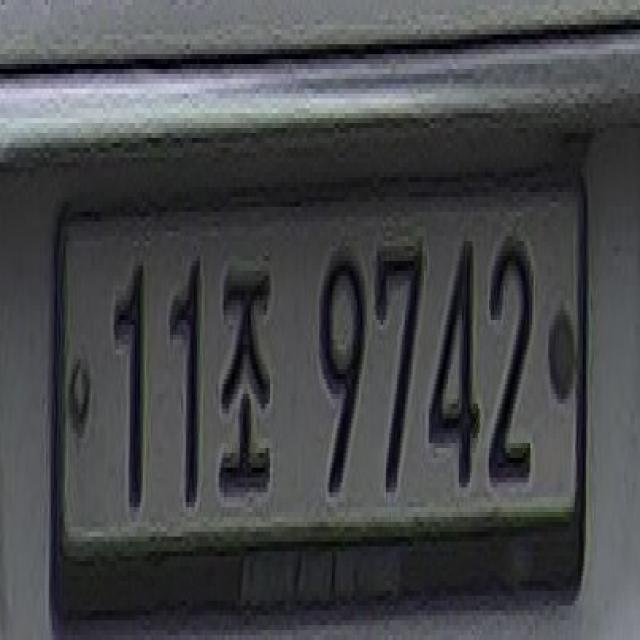1: (156, 241, 212, 527), (110, 251, 156, 522)
2: (486, 217, 543, 497)
4: (427, 222, 486, 502)
7: (372, 222, 428, 502)
9: (313, 226, 372, 512)
jo: (213, 246, 279, 512)
license_plate: (43, 143, 594, 630)
